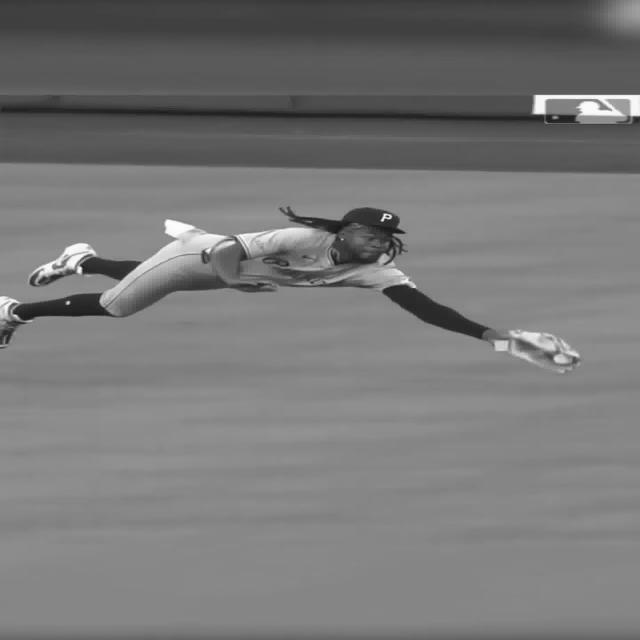baseball: (553, 354, 573, 366)
baseball_glove: (506, 332, 587, 374)
shoe: (29, 242, 96, 288), (0, 296, 32, 353)
